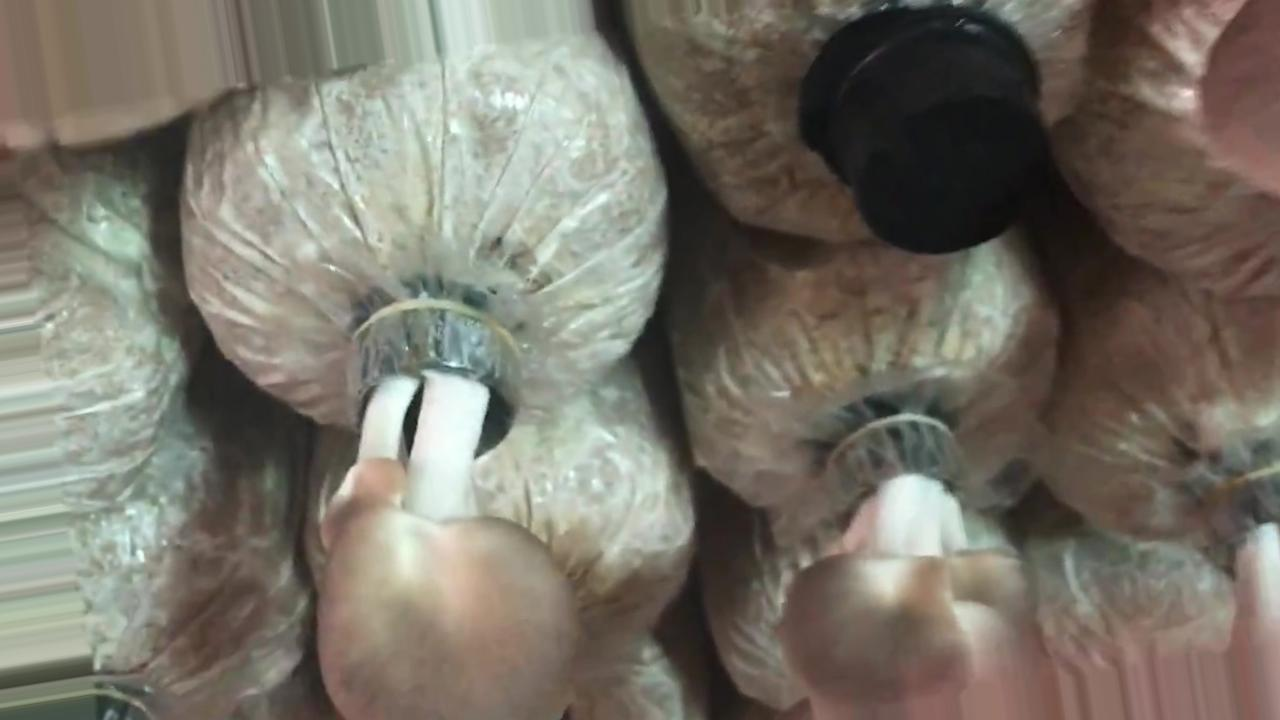nam: (322, 306, 582, 719), (783, 423, 1030, 719)
